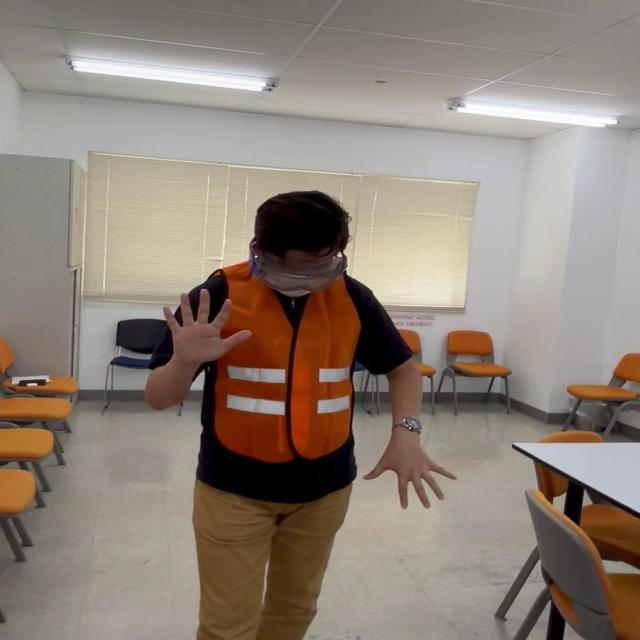bare_hand: (361, 428, 456, 513), (159, 287, 251, 364)
